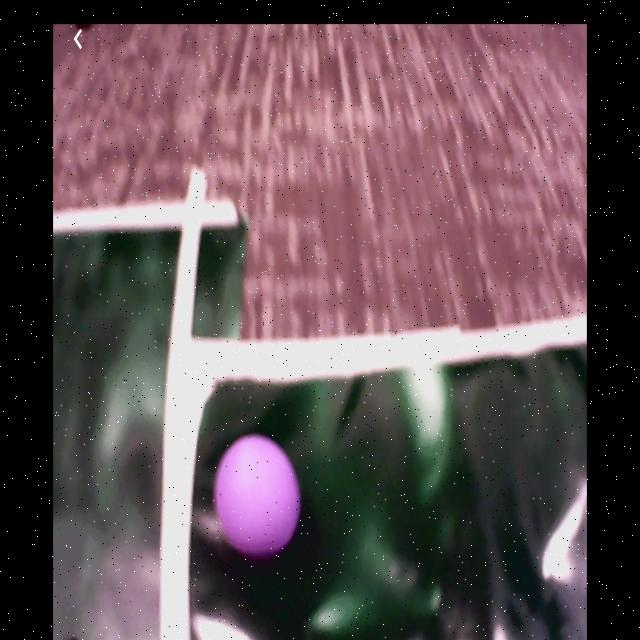ball: (218, 437, 300, 556)
